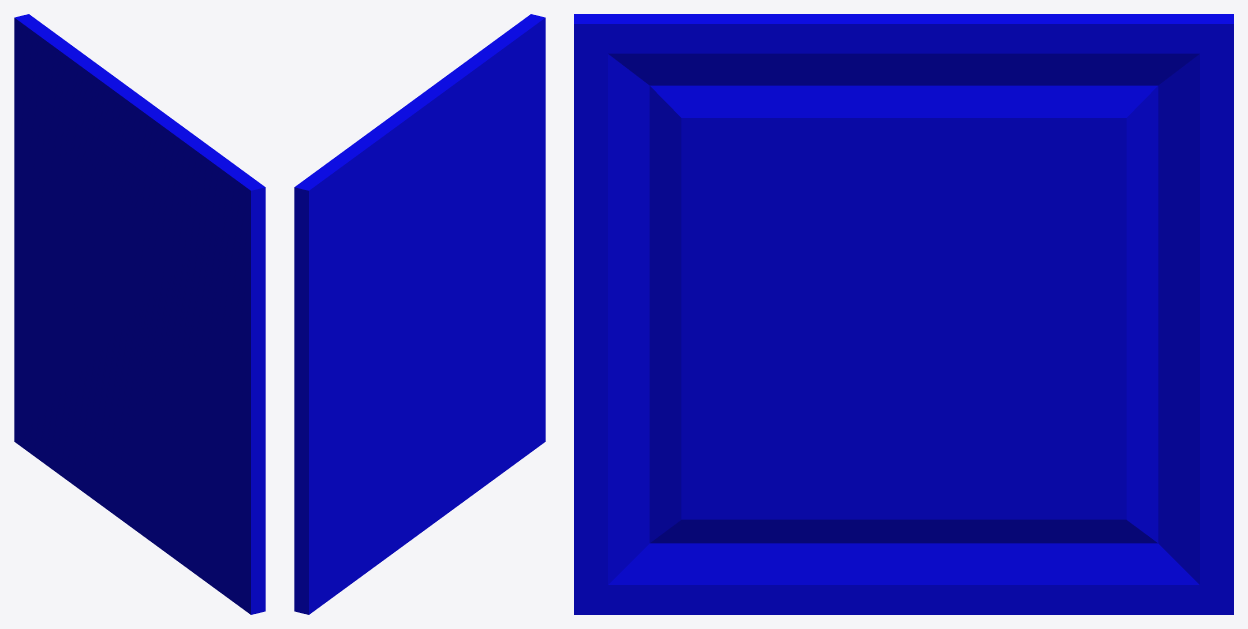
File: Closet_Door.fbx
The picture shows the model from 3 angles, left to right: view 1: azimuth 30°, elevation 25°; view 2: azimuth 150°, elevation 25°; view 3: azimuth 270°, elevation 25°; orthographic projection. The views are drawn at different scales.
Visible parts, largest first — view 1: Closet_Door; view 2: Closet_Door; view 3: Closet_Door.
Part boxes in pixels (left/top/right/bottom): Closet_Door: left=14, top=14, right=265, bottom=614; Closet_Door: left=294, top=14, right=545, bottom=614; Closet_Door: left=574, top=14, right=1233, bottom=614.
Bounding box in the file's own units: 1.27 × 35.24 × 35.65.
